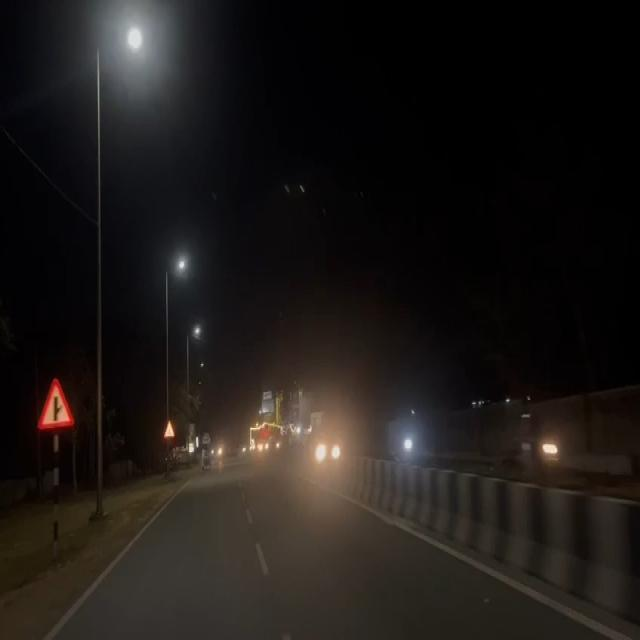bien_cam: (35, 374, 75, 434)
